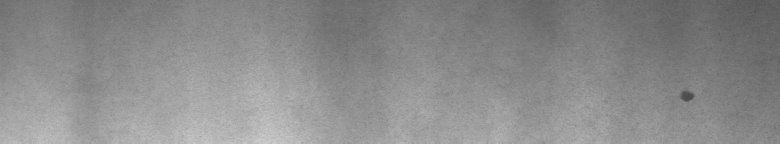fi: (676, 84, 700, 108)
